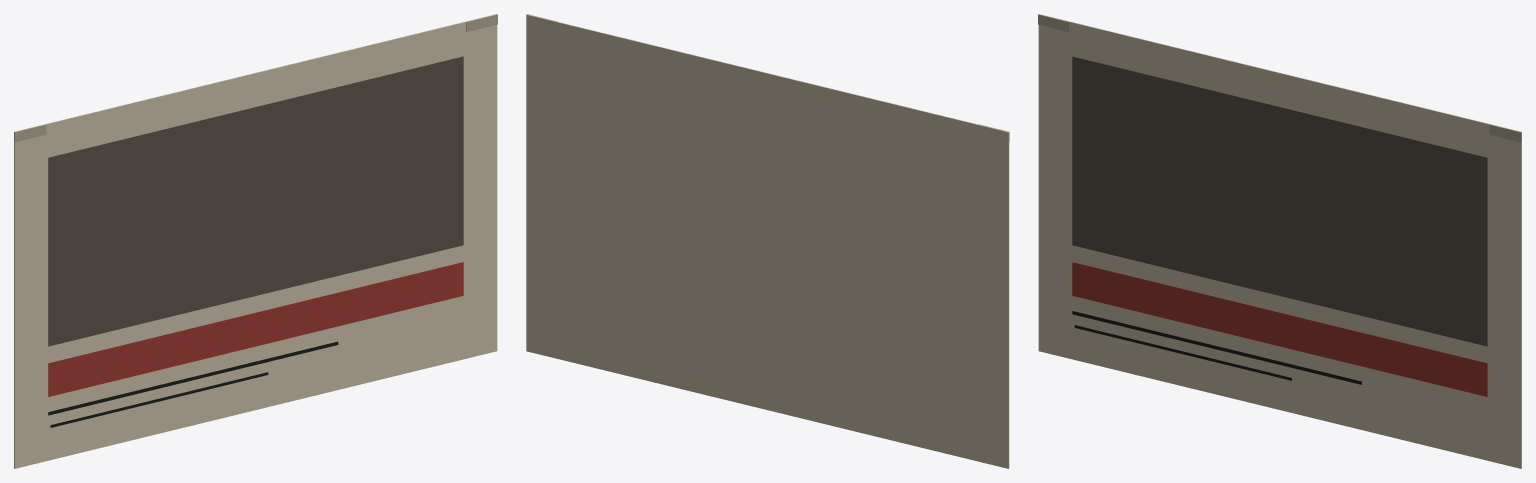
File: poster-print-3x2.glb
3 renders of one model, left to right at view 1: azimuth 30°, elevation 25°; view 2: azimuth 150°, elevation 25°; view 3: azimuth 330°, elevation 25°, orthographic.
Visible parts, largest first — view 1: fabric, paper, accent-warm, rubber, plastic-light; view 2: paper; view 3: fabric, paper, accent-warm, rubber, plastic-light.
Boxes of the visible parts, x1=… form: fabric: x1=48, y1=56, x2=463, y2=346; paper: x1=14, y1=14, x2=497, y2=468; accent-warm: x1=48, y1=262, x2=463, y2=396; rubber: x1=48, y1=341, x2=338, y2=427; plastic-light: x1=14, y1=14, x2=497, y2=142; paper: x1=526, y1=14, x2=1009, y2=468; fabric: x1=1072, y1=56, x2=1487, y2=346; paper: x1=1038, y1=14, x2=1521, y2=468; accent-warm: x1=1072, y1=262, x2=1487, y2=396; rubber: x1=1072, y1=311, x2=1361, y2=384; plastic-light: x1=1038, y1=14, x2=1521, y2=142.
Size of the model in its own units: 0.916 by 0.61 by 0.003.
